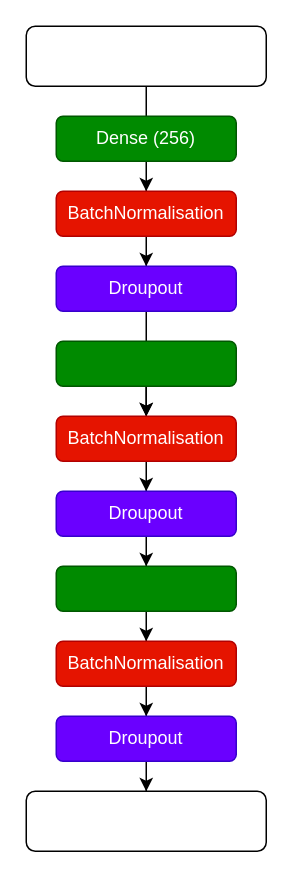
The diagram is 293 pixels wide and 878 high, and some of its shapes have lost their labels. The box of each missing label's shape, as (x1, y1, x2, y2) in pixels:
Dense (128): (55, 340, 236, 386)
Dense (64): (55, 565, 236, 611)
Input (45 Features): (25, 25, 266, 86)
Softmax Output (5 classes): (25, 790, 266, 851)
